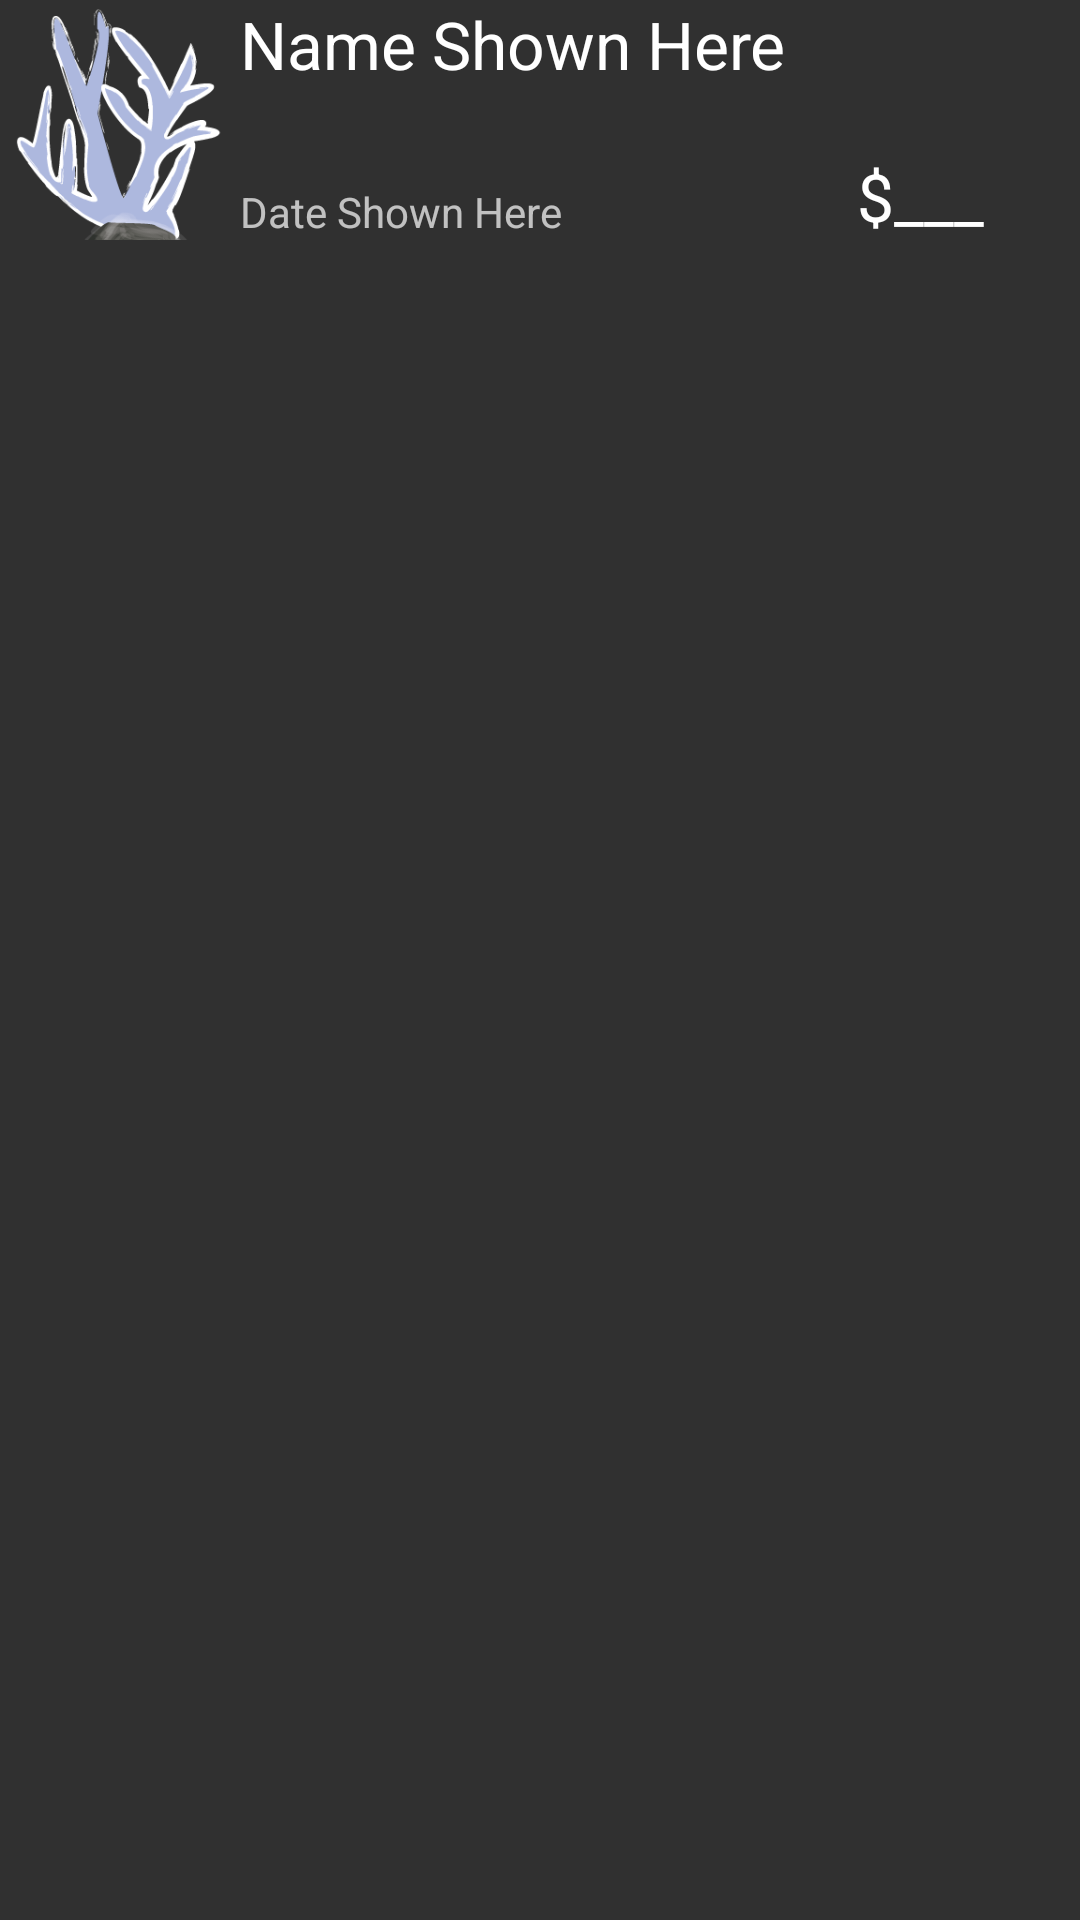

Named icons in this screenshot (1080x1920) and their centers, (x=x, y=y):
coral: (x=118, y=124)
